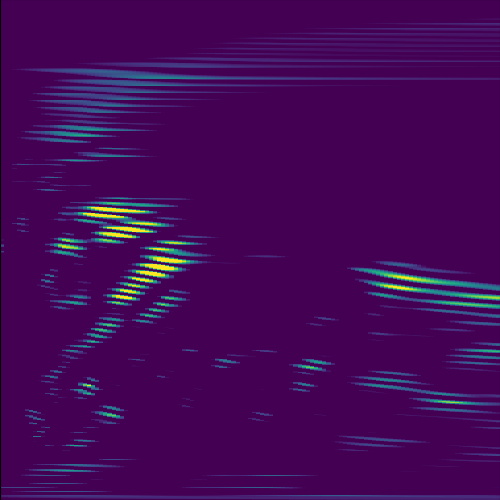semblance: (122, 238, 207, 284), (66, 201, 165, 224), (89, 219, 173, 244)
